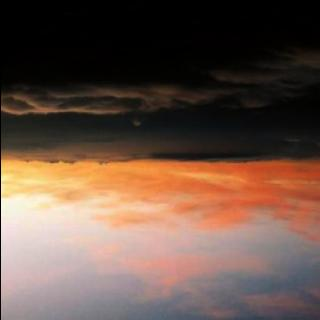Cirrus: (0, 161, 320, 320)
